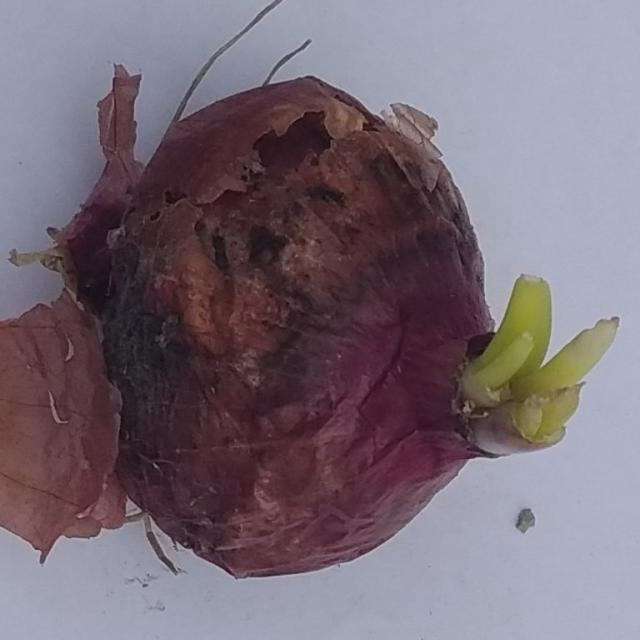onion: (0, 64, 621, 582)
